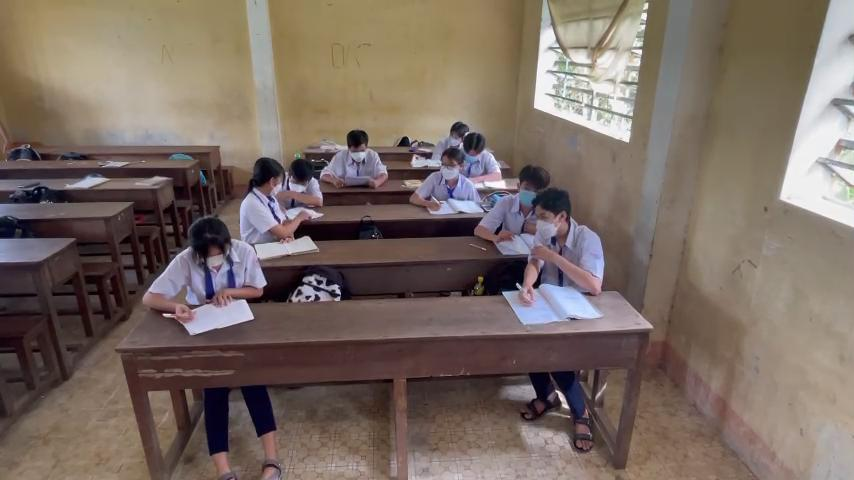Hand Under Table: (455, 173, 486, 209)
Look Around: (524, 184, 583, 241), (246, 153, 289, 200)
Wave: (523, 237, 613, 294), (245, 203, 320, 242)
